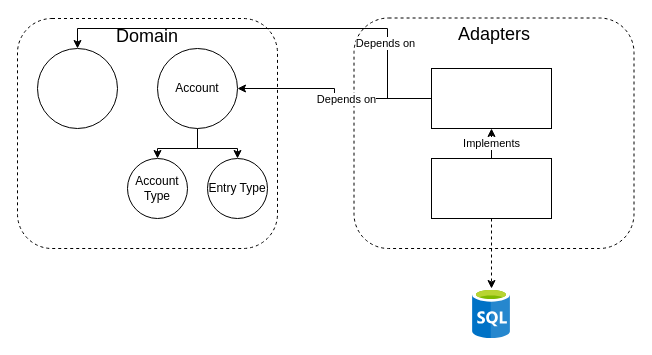
The diagram is 652 pixels wide and 355 high, and some of its shapes have lost their labels. The shapes that lost their labels are listed below. From the top down, each one's centre as x and y in pixels, then its label:
(77,88): Transaction
(491,98): Abstract Repository
(491,188): Postgres Repository
